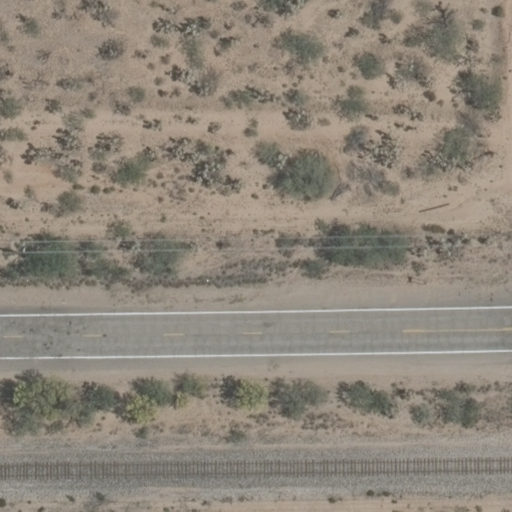DT: (12, 242, 30, 261)
